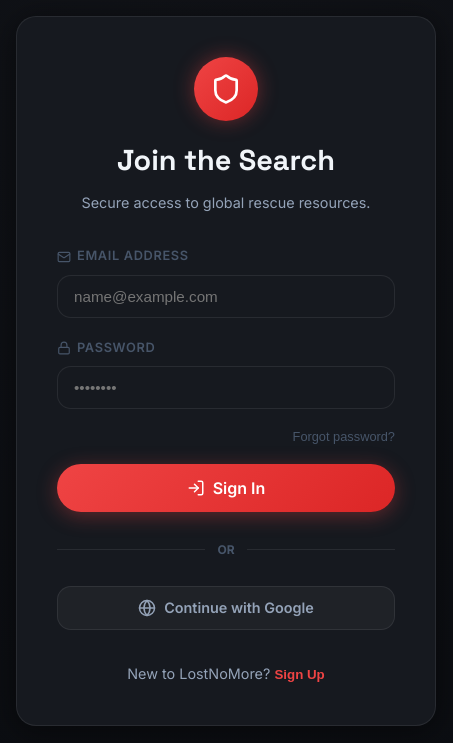
Test: Login Component (100/100 Coverage) › toggles between Sign In and Sign Up view
Step 1. Click the button "Sign Up" → x=300, y=674, box [274,667,325,682]
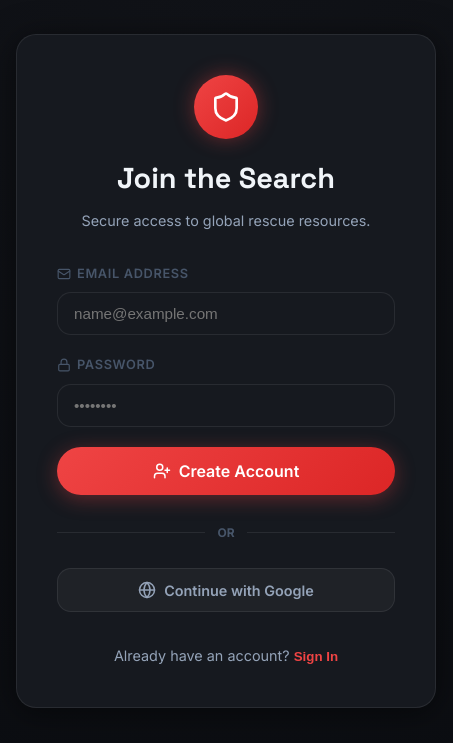
expect the button "Create Account" is shown: met, box [57,447,395,495]
Step 2. Click the button "Sign In" → x=316, y=657, box [294,649,338,664]
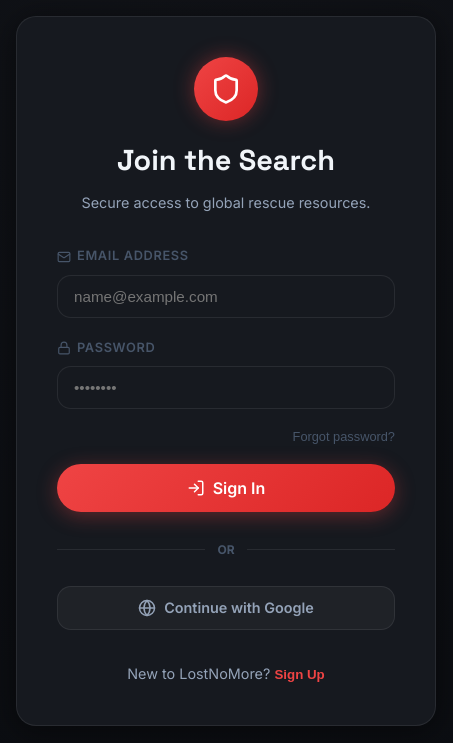
expect the button "Sign In" is shown: met, box [57,464,395,512]
